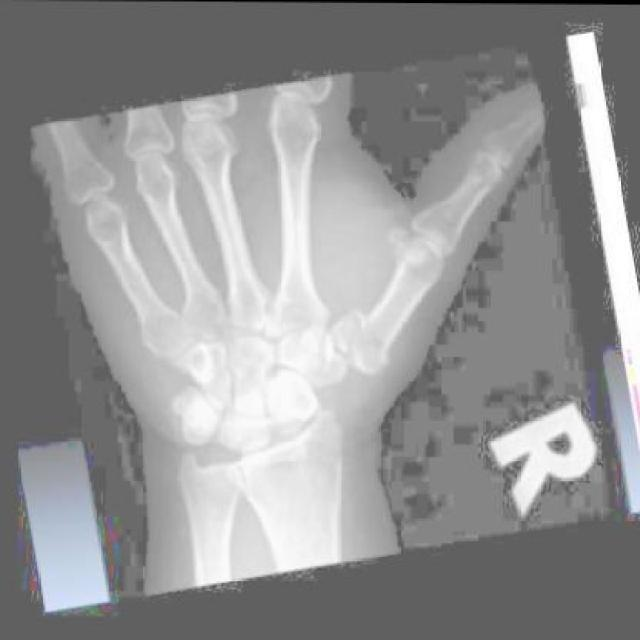Fracture: (321, 303, 377, 368)
